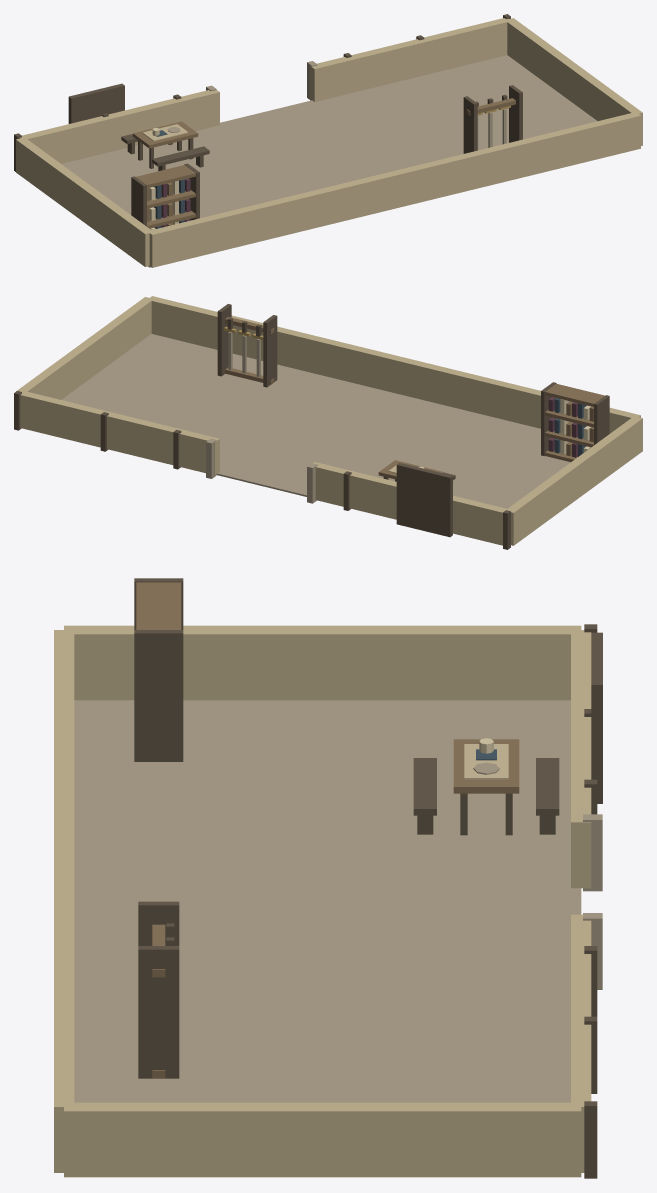
Rendered from WalkTown_Guild_Structure.fbx.
The picture shows the model from 3 angles, top to bottom: view 1: azimuth 30°, elevation 25°; view 2: azimuth 150°, elevation 25°; view 3: azimuth 270°, elevation 25°; orthographic projection. The views are drawn at different scales.
Parts seen in each view (by area): view 1: WalkTown_Guild_Structure; view 2: WalkTown_Guild_Structure; view 3: WalkTown_Guild_Structure.
Part boxes in pixels (x1,y1,x2,y2): WalkTown_Guild_Structure: [14, 14, 642, 267]; WalkTown_Guild_Structure: [14, 296, 642, 549]; WalkTown_Guild_Structure: [54, 578, 602, 1178].
Size of the model in its own units: 15.78 by 2 by 7.54.
